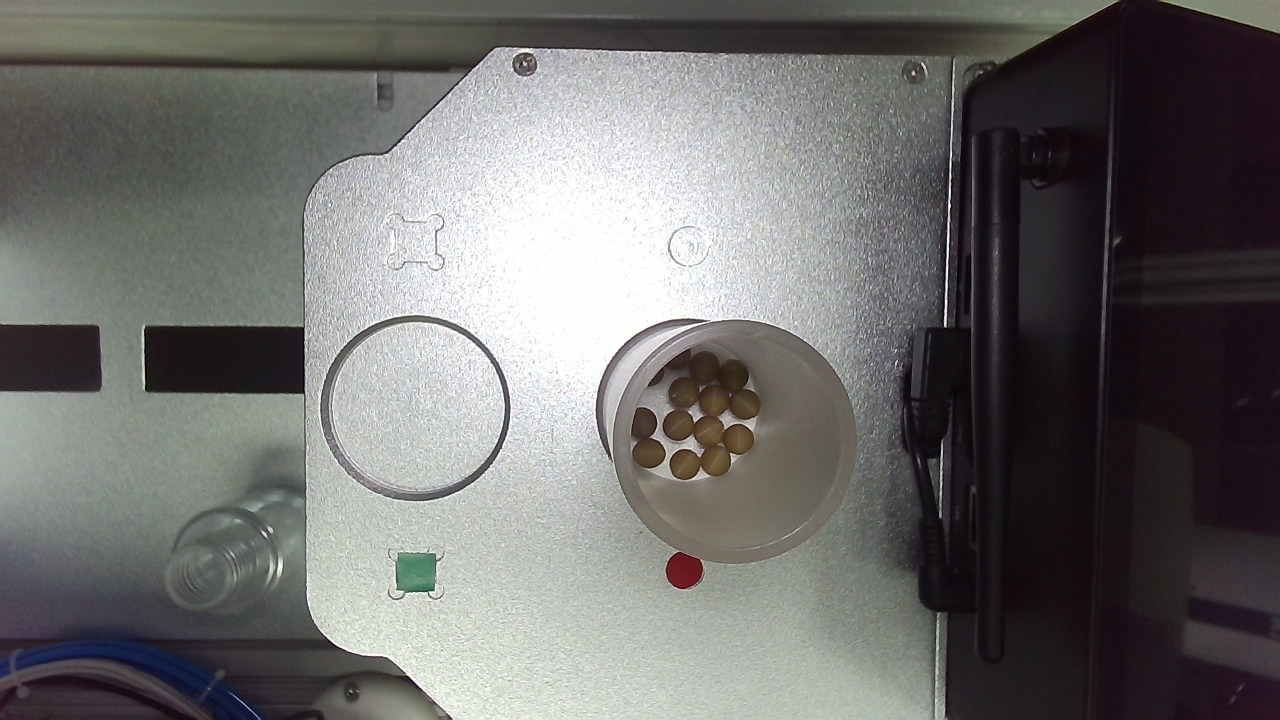XLabel: (741, 219, 775, 252)
YLabel: (523, 215, 558, 250)
none: (458, 283, 618, 445)
transparenexcept: (666, 247, 939, 457)
